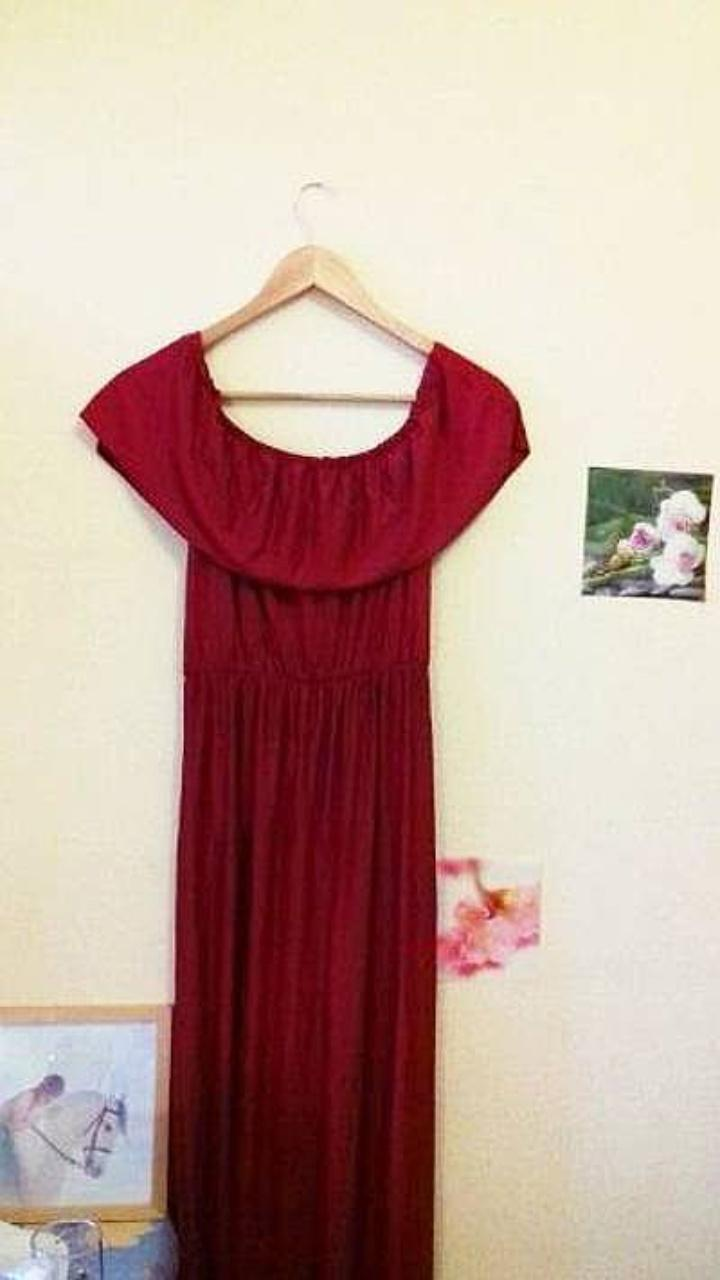Dresses: (81, 332, 527, 1279)
